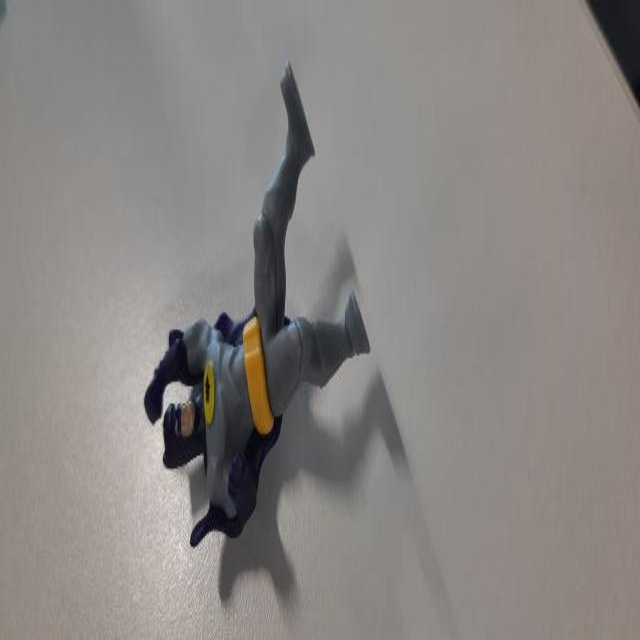Batman: (143, 55, 373, 552)
